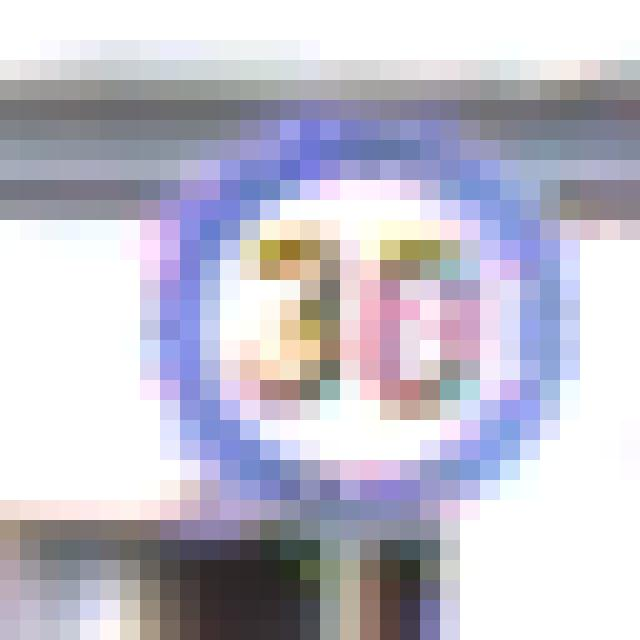SPEED LIMIT 30: (232, 144, 572, 552)
